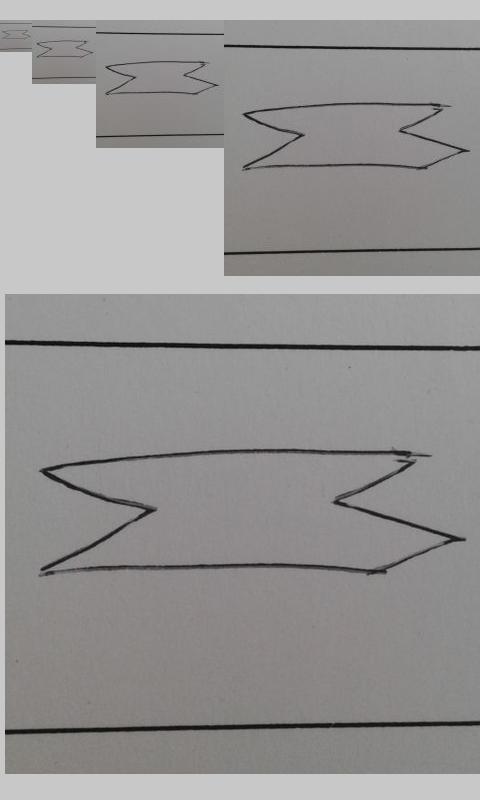edit_text: (35, 445, 461, 575), (240, 100, 467, 172), (103, 60, 219, 96), (36, 40, 93, 58), (2, 29, 30, 40)
